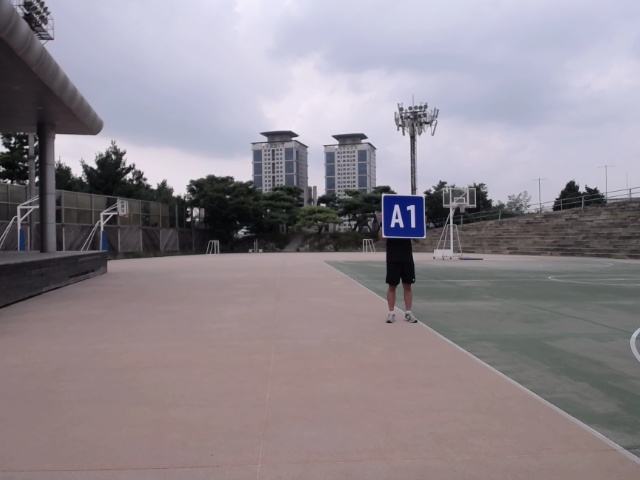delivery_a1: (383, 195, 426, 238)
